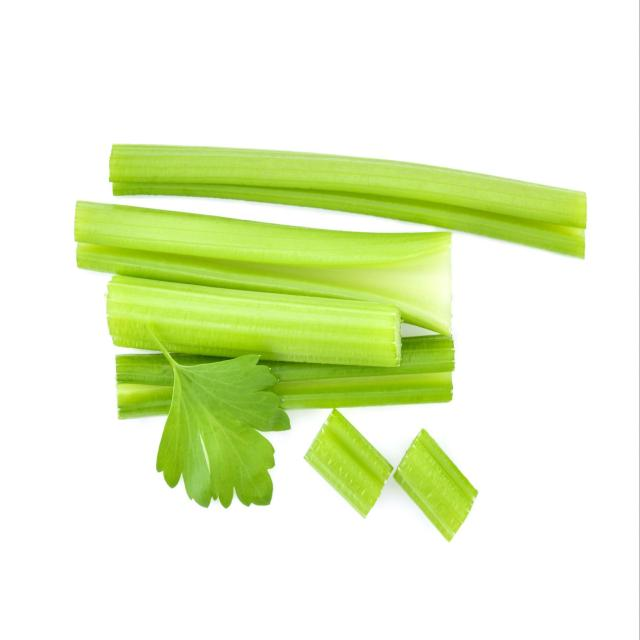Celery stalk: (68, 129, 592, 553)
